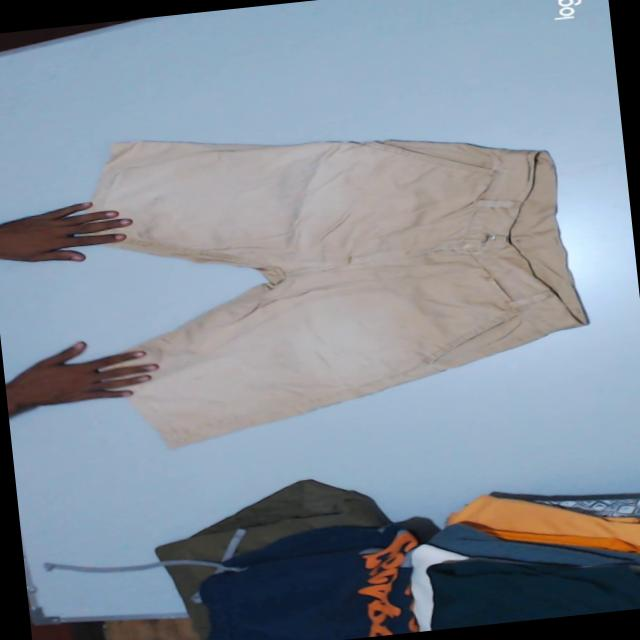new-garment: (91, 139, 585, 446)
